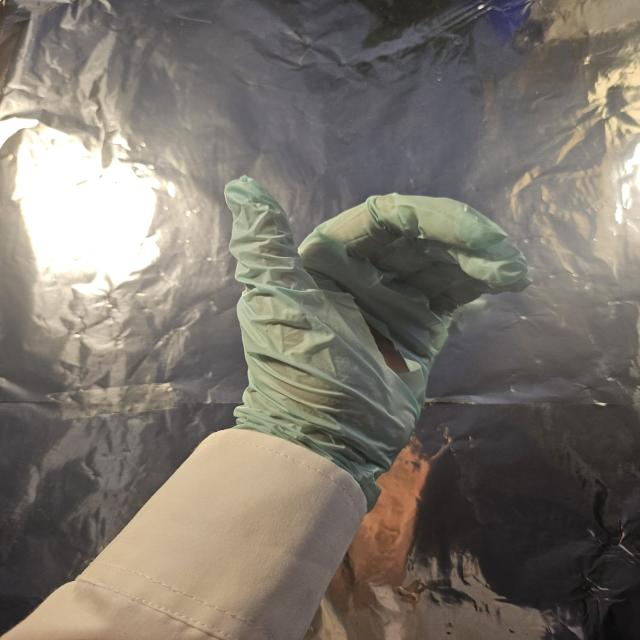gloves_damaged: (219, 168, 535, 508)
